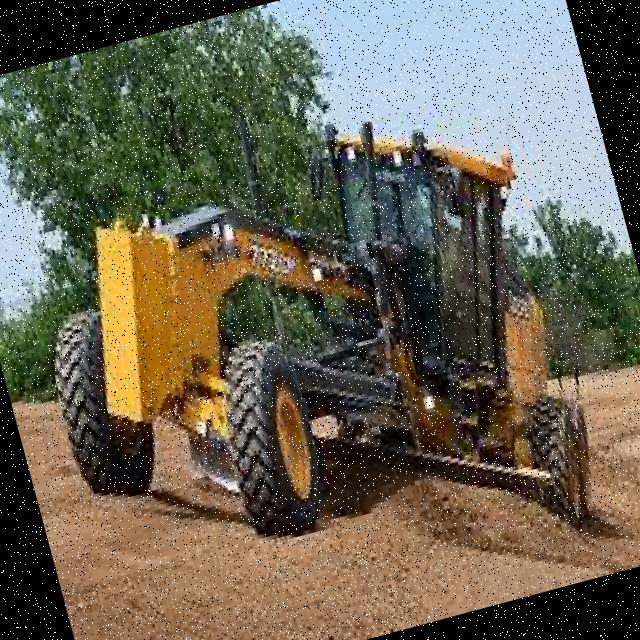Grader: (0, 32, 619, 640)
